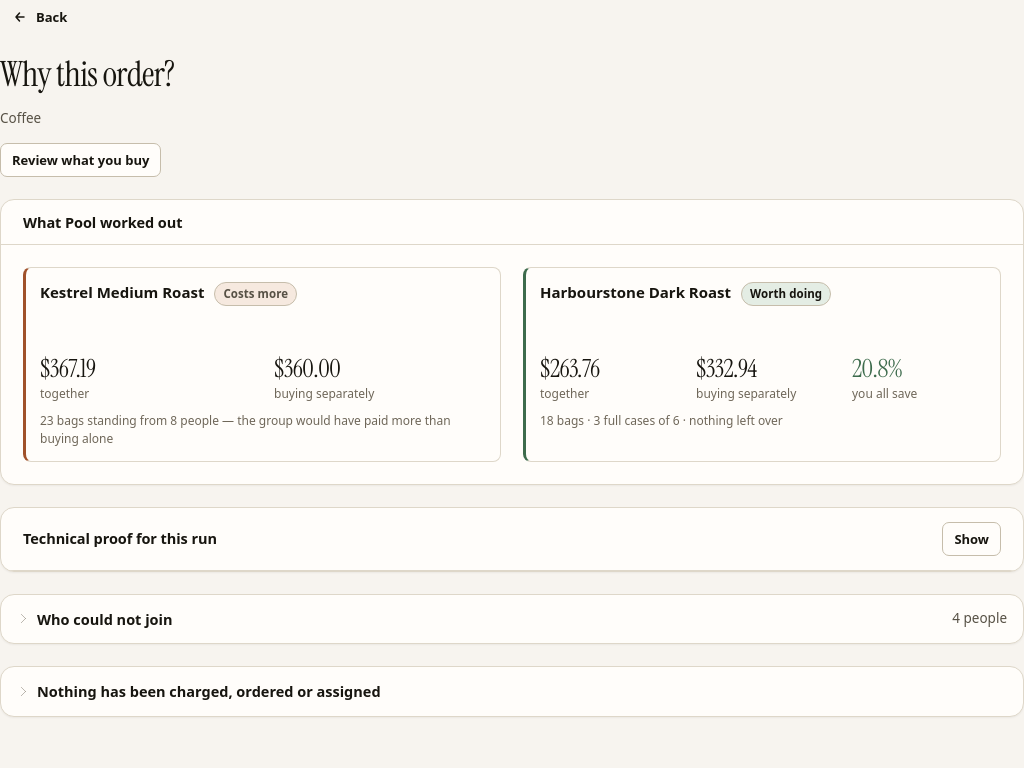
Test: what the declaration caused, afterwards › offers a route back to editable needs and identifies the proof disclosure
Click the button "Review what you buy".
click(81, 160)  # box [0,143,161,177]
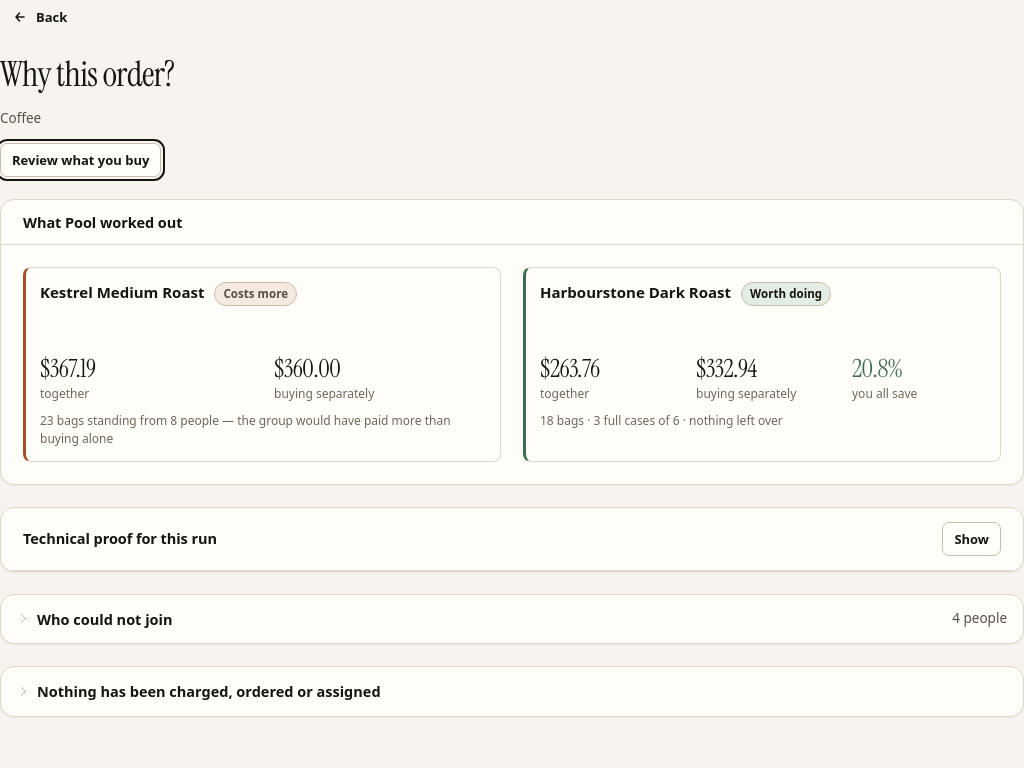
Click the button "Show".
click(972, 539)  # box [942,522,1001,556]
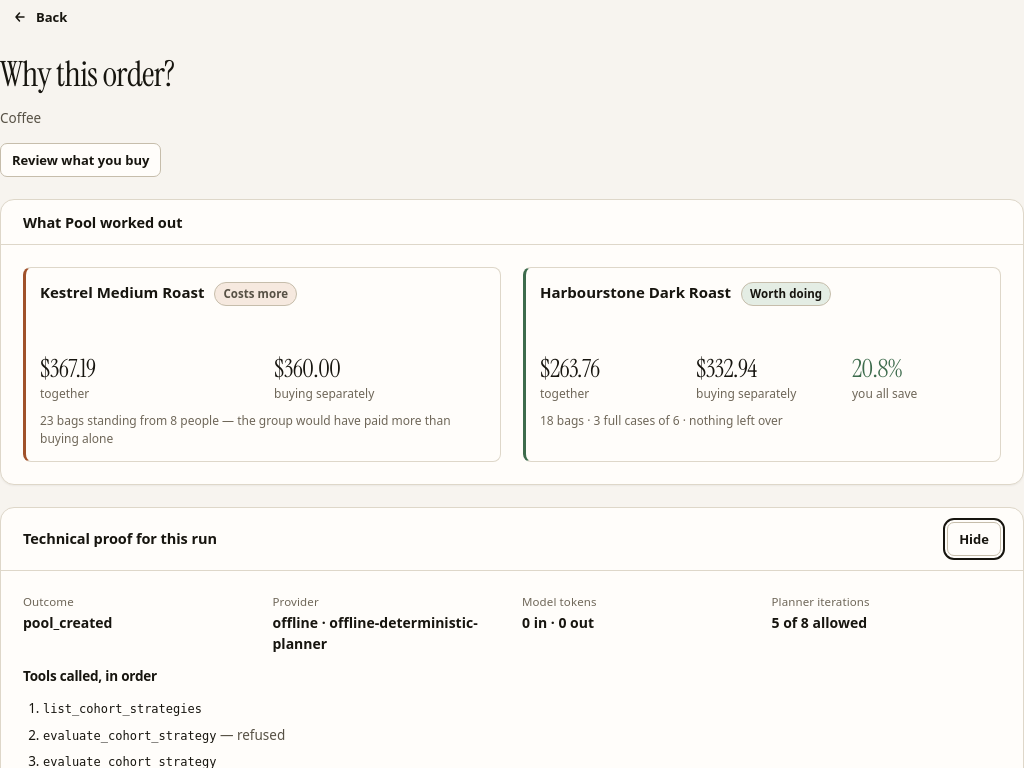
Check: the text "Planner iterations" is shown, box [772,594,870,609]
